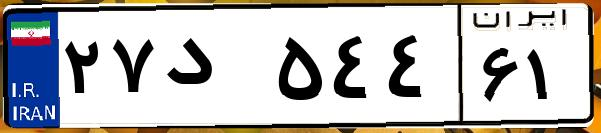1: (525, 38, 570, 115)
2: (57, 26, 110, 100)
4: (385, 28, 445, 110), (330, 28, 385, 110)
5: (270, 28, 330, 110)
6: (475, 38, 525, 113)
7: (110, 28, 158, 98)
د: (158, 20, 270, 120)
